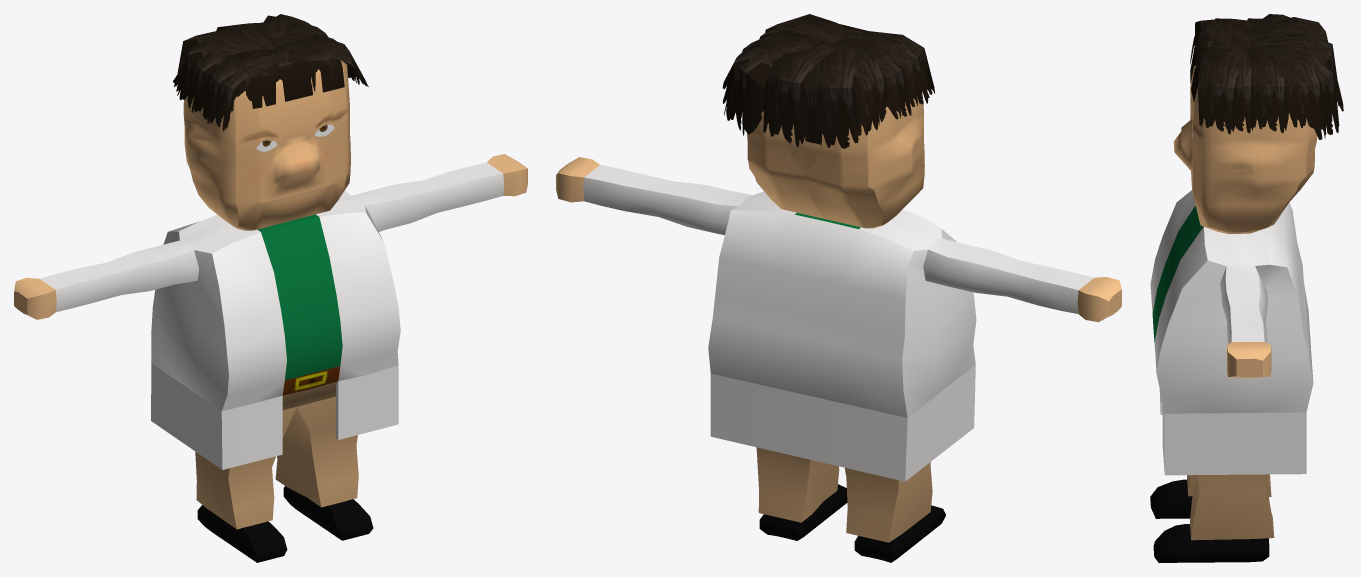
File: randSci1.fbx
The picture shows the model from 3 angles, left to right: view 1: azimuth 30°, elevation 25°; view 2: azimuth 150°, elevation 25°; view 3: azimuth 270°, elevation 25°; orthographic projection. The views are drawn at different scales.
Parts seen in each view (by area): view 1: RandSci1; view 2: RandSci1; view 3: RandSci1.
Boxes of the visible parts, x1=… form: RandSci1: x1=14, y1=14, x2=527, y2=562; RandSci1: x1=556, y1=14, x2=1121, y2=562; RandSci1: x1=1150, y1=14, x2=1343, y2=562.
Size of the model in its own units: 19.2 by 17.06 by 6.13.
